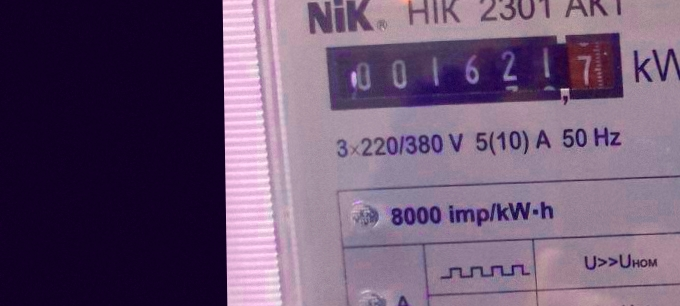0: (388, 55, 410, 92), (353, 57, 373, 92)
1: (539, 42, 553, 80), (428, 52, 442, 88)
2: (499, 47, 520, 83)
6: (462, 52, 481, 86)
7: (574, 51, 594, 87)
screen: (320, 29, 630, 115)
